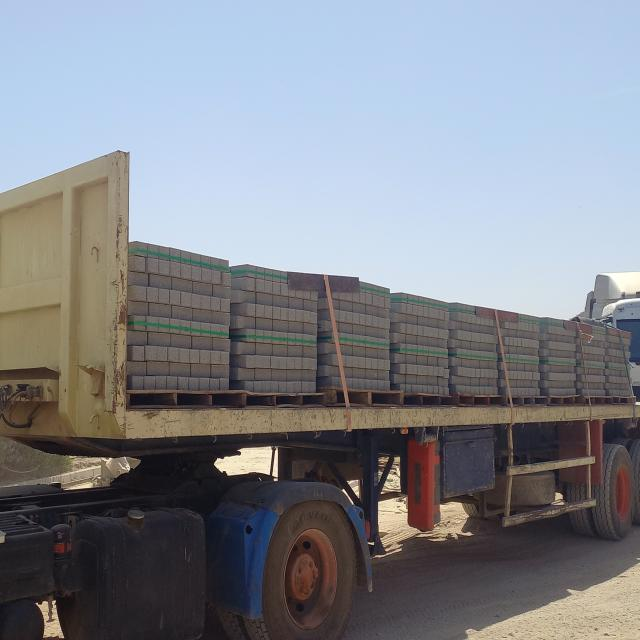bricks: (127, 241, 343, 404), (328, 275, 506, 397), (499, 311, 631, 397)
